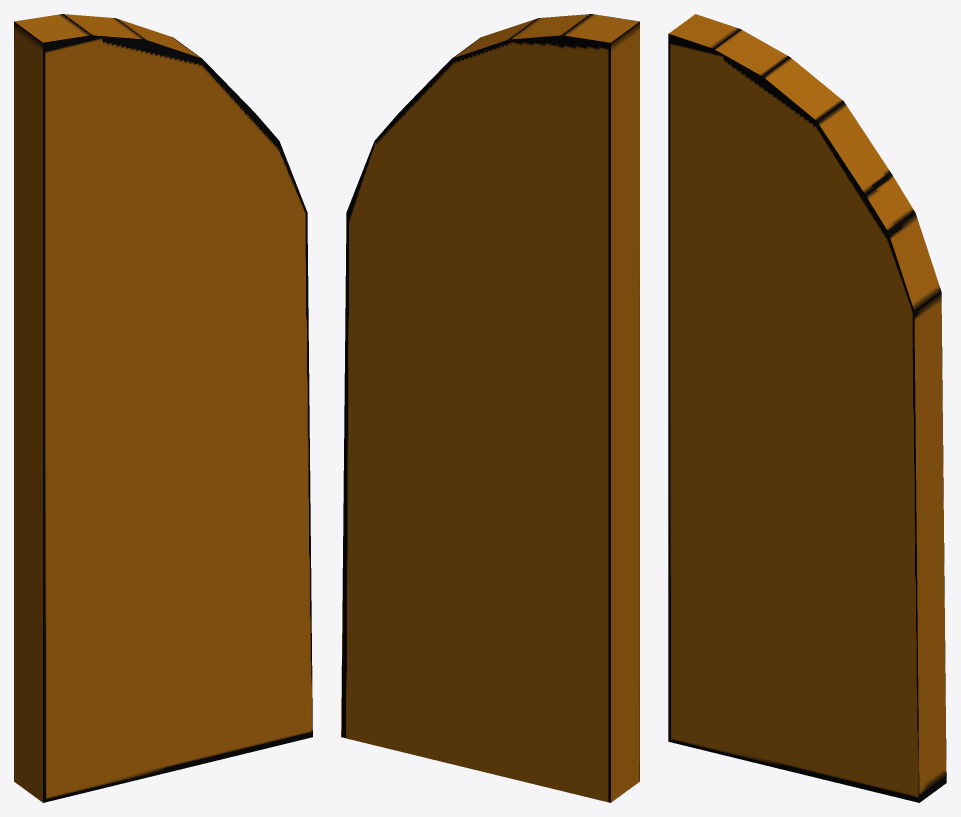
The model's file is GateDoors.fbx.
3 renders of one model, left to right at view 1: azimuth 30°, elevation 25°; view 2: azimuth 150°, elevation 25°; view 3: azimuth 330°, elevation 25°, orthographic. The views are drawn at different scales.
Visible parts, largest first — view 1: GateDoors; view 2: GateDoors; view 3: GateDoors.
Boxes of the visible parts, x1=… form: GateDoors: x1=14, y1=14, x2=312, y2=802; GateDoors: x1=341, y1=14, x2=639, y2=802; GateDoors: x1=668, y1=14, x2=946, y2=802.
Bounding box in the file's own units: 10.68 × 2 × 28.76.
1 material, 1 textured.
